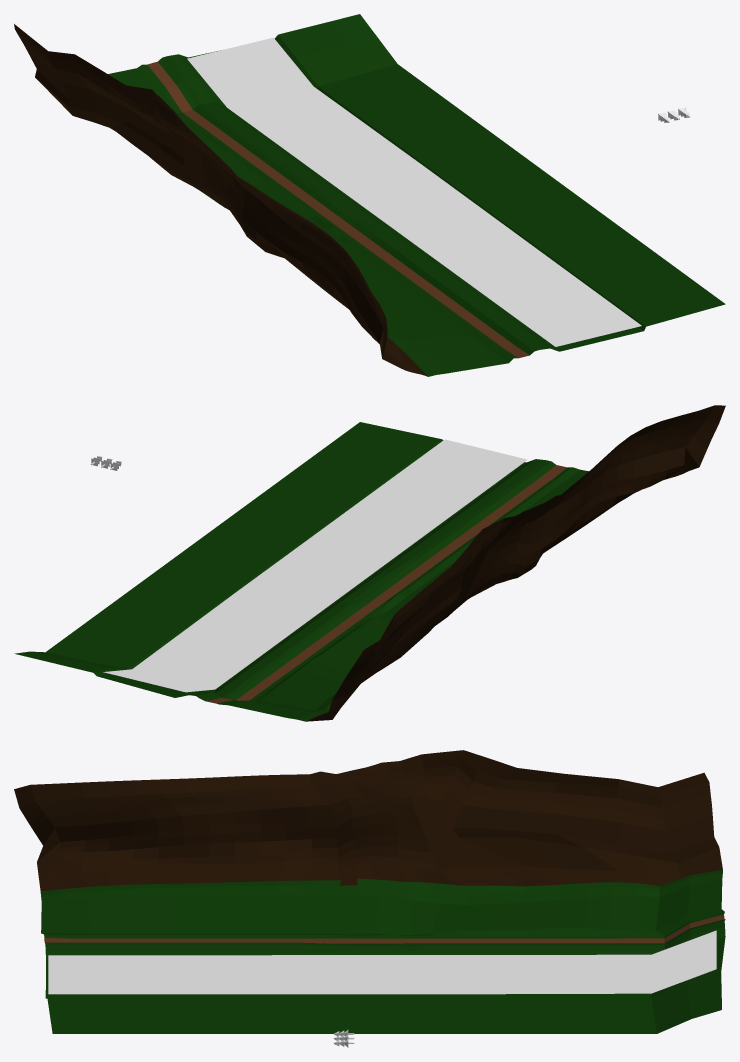
File: cut_1.fbx
3 views of the same model, one above another, from view 1: azimuth 30°, elevation 25°; view 2: azimuth 150°, elevation 25°; view 3: azimuth 270°, elevation 25° (orthographic). The views are drawn at different scales.
Parts seen in each view (by area): view 1: Plane.001; view 2: Plane.001; view 3: Plane.001.
Boxes of the visible parts, x1,y1,x2,y2 form: Plane.001: (14, 14, 725, 376); Plane.001: (14, 405, 725, 721); Plane.001: (14, 750, 725, 1033).
Bounding box in the file's own units: 80524 × 22493 × 112158.
